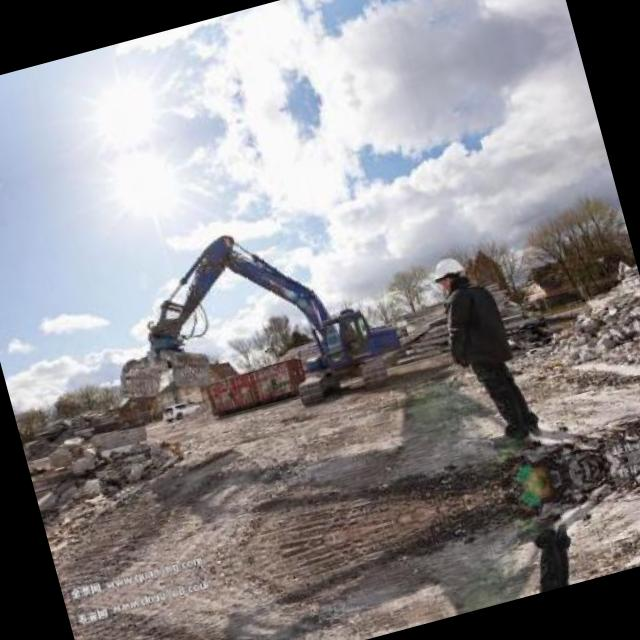helmet: (426, 252, 466, 294)
